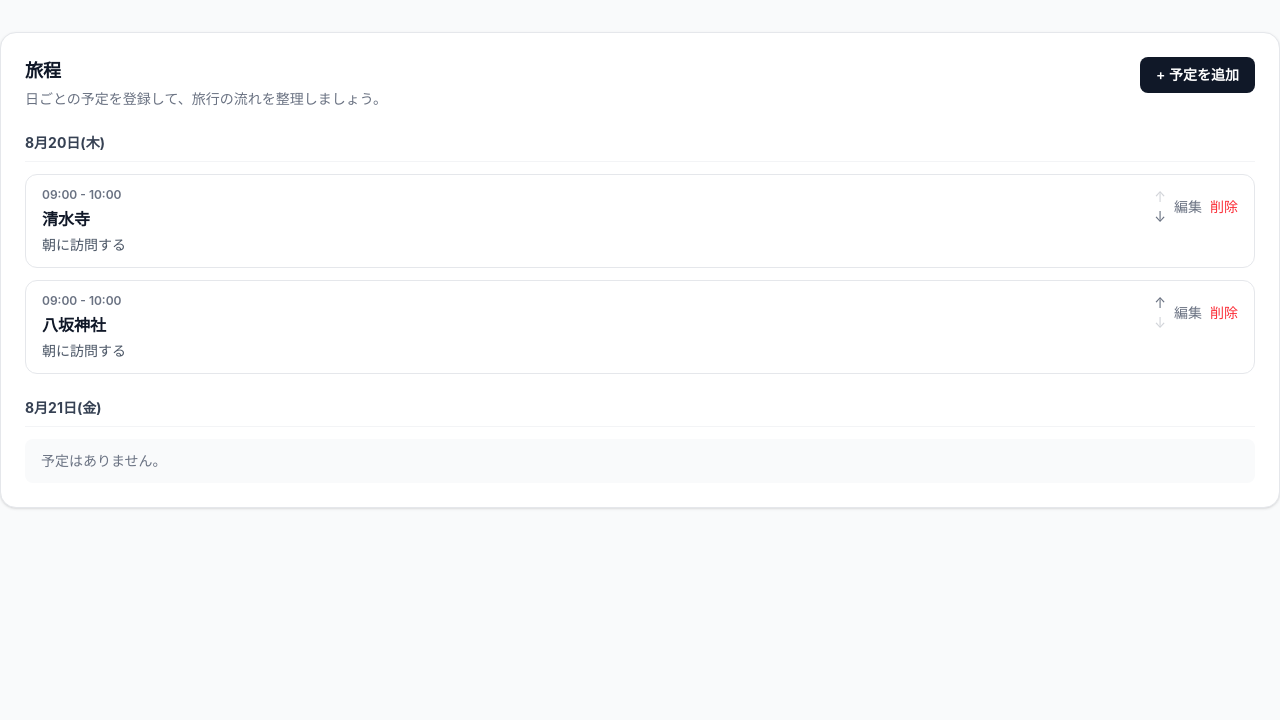
Test: ItineraryList › 予定を上下に移動して手動の表示順を保存できる
The width and height of the screenshot is (1280, 720).
Expected: the heading "八坂神社" is shown, x1=42 y1=315 x2=106 y2=335
Click the button named "八坂神社を上へ移動": x=1160, y=303 x1=1154 y1=293 x2=1166 y2=313
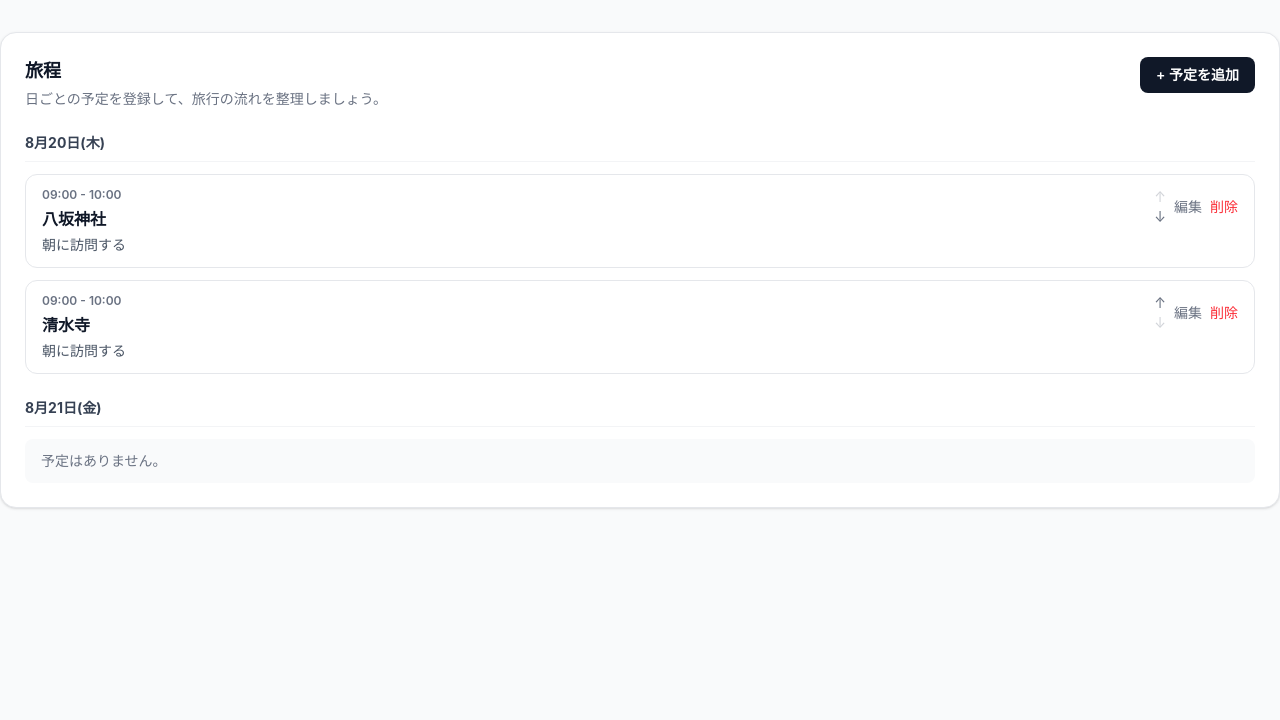
Expected: the button named "八坂神社を上へ移動" is disabled, x1=1154 y1=187 x2=1166 y2=207
Expected: the headings read "八坂神社", "清水寺", in this order, x1=42 y1=209 x2=106 y2=229; x1=42 y1=315 x2=90 y2=335
